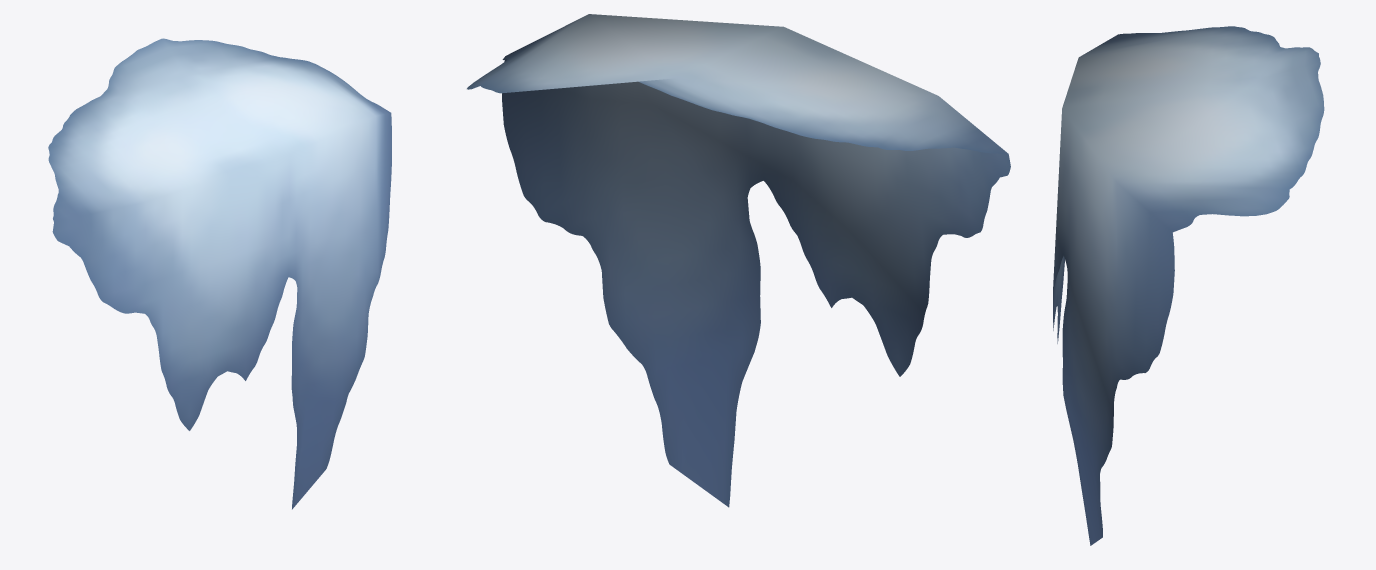
Rendered from JiXue04.FBX.
3 views of the same model, side by side, from view 1: azimuth 30°, elevation 25°; view 2: azimuth 150°, elevation 25°; view 3: azimuth 270°, elevation 25° (orthographic). The views are drawn at different scales.
Visible parts, largest first — view 1: JiXue04; view 2: JiXue04; view 3: JiXue04.
Boxes of the visible parts, bbox=[...] form: JiXue04: bbox=[48, 38, 391, 509]; JiXue04: bbox=[467, 14, 1010, 507]; JiXue04: bbox=[1053, 26, 1324, 545].
Size of the model in its own units: 29.56 by 31.04 by 17.06.
